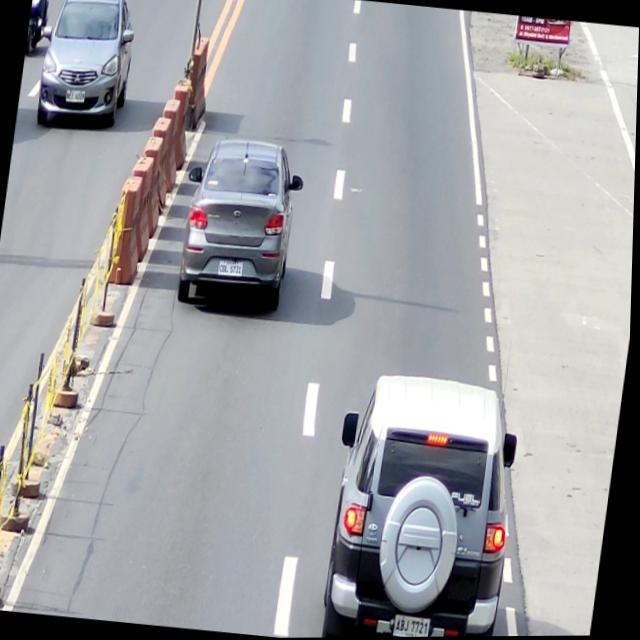Car: (317, 367, 530, 638), (173, 132, 309, 314), (30, 0, 139, 132)
License-Plate: (393, 611, 436, 638), (216, 258, 247, 279), (64, 87, 87, 106)
